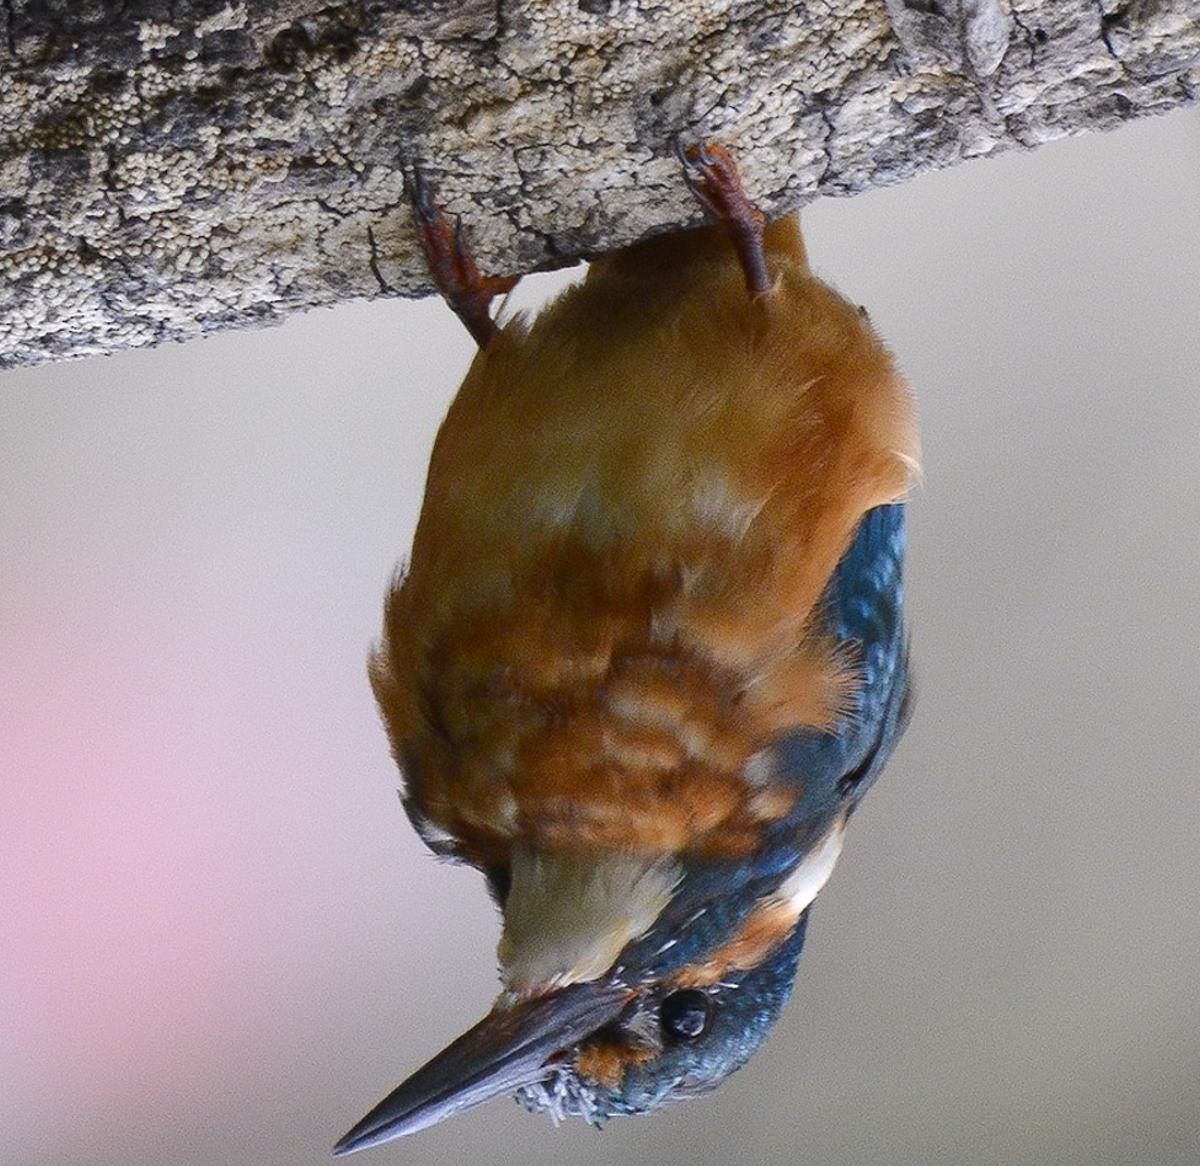kingfisher: (336, 159, 915, 1157)
